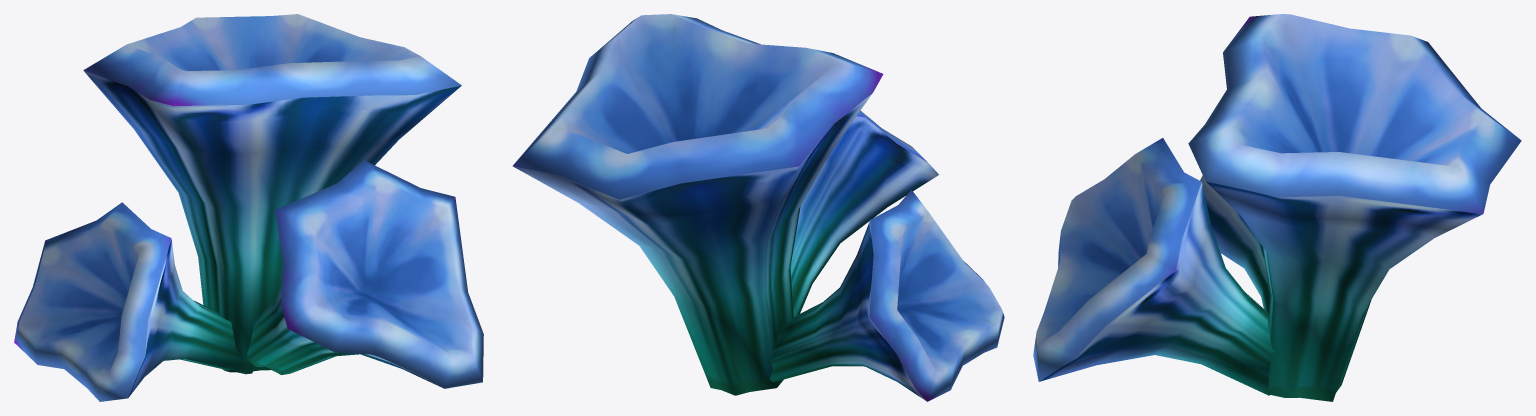
File: Mushroom22.fbx
3 views of the same model, side by side, from view 1: azimuth 30°, elevation 25°; view 2: azimuth 150°, elevation 25°; view 3: azimuth 270°, elevation 25° (orthographic). The views are drawn at different scales.
Parts seen in each view (by area): view 1: Mushroom22; view 2: Mushroom22; view 3: Mushroom22.
Boxes of the visible parts, x1,y1,x2,y2 form: Mushroom22: (14, 14, 483, 401); Mushroom22: (512, 14, 1004, 401); Mushroom22: (1033, 14, 1521, 401).
Size of the model in its own units: 1.51 by 1.25 by 1.64.
